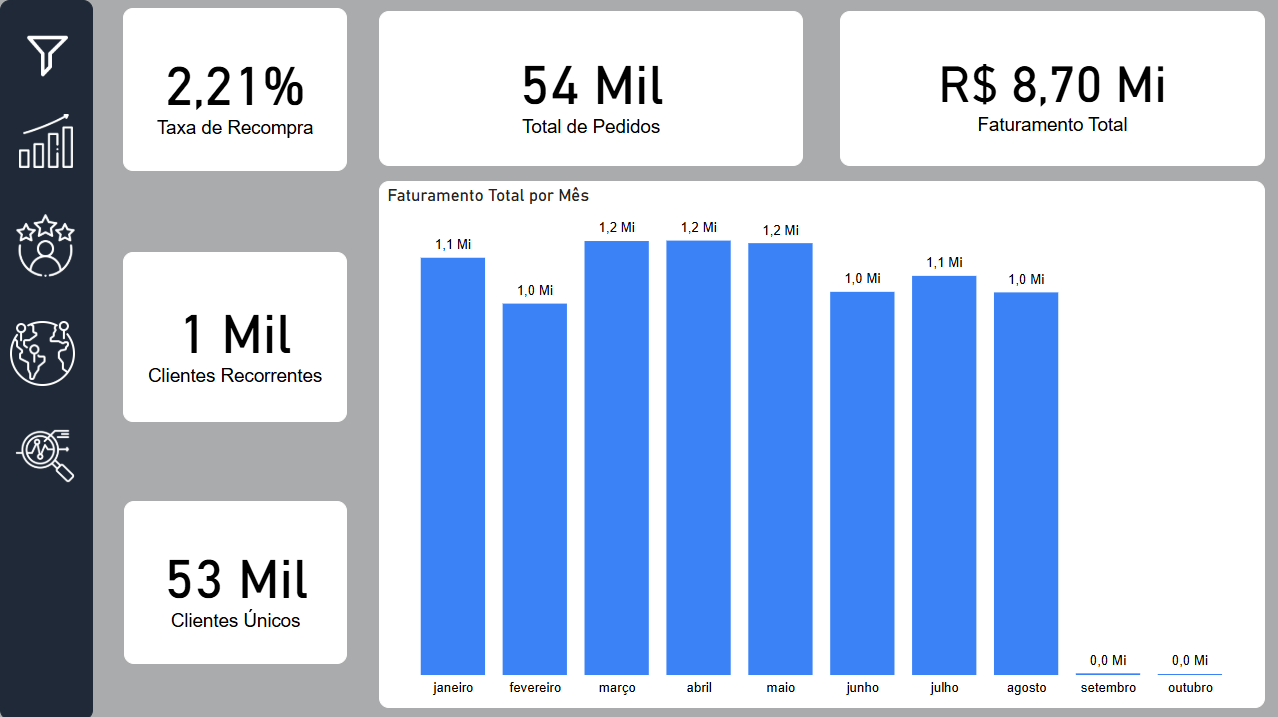

This screenshot's page, from the dashboard's own definition file:
{"tool":"powerbi","page":{"name":"Crescimento e Retenção","canvas":[1280,720],"ordinal":0},"visuals":[{"type":"clusteredColumnChart","title":"Faturamento Total por Mês","fields":{"Category":["dim_tempo.nome_mes"],"Y":["Medidas.Faturamento_Total"]},"box":[378.6,181.1,886.2,527.1],"z":0},{"type":"card","fields":{"Values":["Medidas.Taxa_de_Recompra"]},"box":[123,8,223.6,162.9],"z":1000},{"type":"card","fields":{"Values":["Medidas.Clientes_Unicos"]},"box":[123.5,500.6,223.6,163.2],"z":2000},{"type":"shape","box":[0,0,93,719.7],"z":3000},{"type":"image","box":[19.7,18.2,53,74.2],"z":4000},{"type":"image","box":[0,109,92.4,63.6],"z":5000},{"type":"image","box":[0,205.9,92.4,78.7],"z":6000},{"type":"image","box":[0,420.9,90.9,69.7],"z":7000},{"type":"image","box":[0,316.5,86.3,74.2],"z":8000},{"type":"card","fields":{"Values":["Medidas.Total_de_Pedidos"]},"box":[378.6,11.4,424.3,155],"z":8250},{"type":"card","fields":{"Values":["Medidas.Clientes_Recorrentes"]},"box":[123,252.4,223.6,169.3],"z":8500},{"type":"card","fields":{"Values":["Medidas.Faturamento_Total"]},"box":[840.5,11.4,424.3,155],"z":8750}]}

Visuals, with their boxes on the page's 1280x720 design canvas (x1, y1, x2, y2). These are canvas units, not pixel positions in the 1278x717 screenshot, which may show the page scaled, cropped or inside an application window:
"Faturamento Total por Mês" clusteredColumnChart: locate(379, 181, 1265, 708)
card - Medidas.Taxa_de_Recompra: locate(123, 8, 347, 171)
card - Medidas.Clientes_Unicos: locate(124, 501, 347, 664)
shape: locate(0, 0, 93, 720)
image: locate(20, 18, 73, 92)
image: locate(0, 109, 92, 173)
image: locate(0, 206, 92, 285)
image: locate(0, 421, 91, 491)
image: locate(0, 316, 86, 391)
card - Medidas.Total_de_Pedidos: locate(379, 11, 803, 166)
card - Medidas.Clientes_Recorrentes: locate(123, 252, 347, 422)
card - Medidas.Faturamento_Total: locate(840, 11, 1265, 166)
